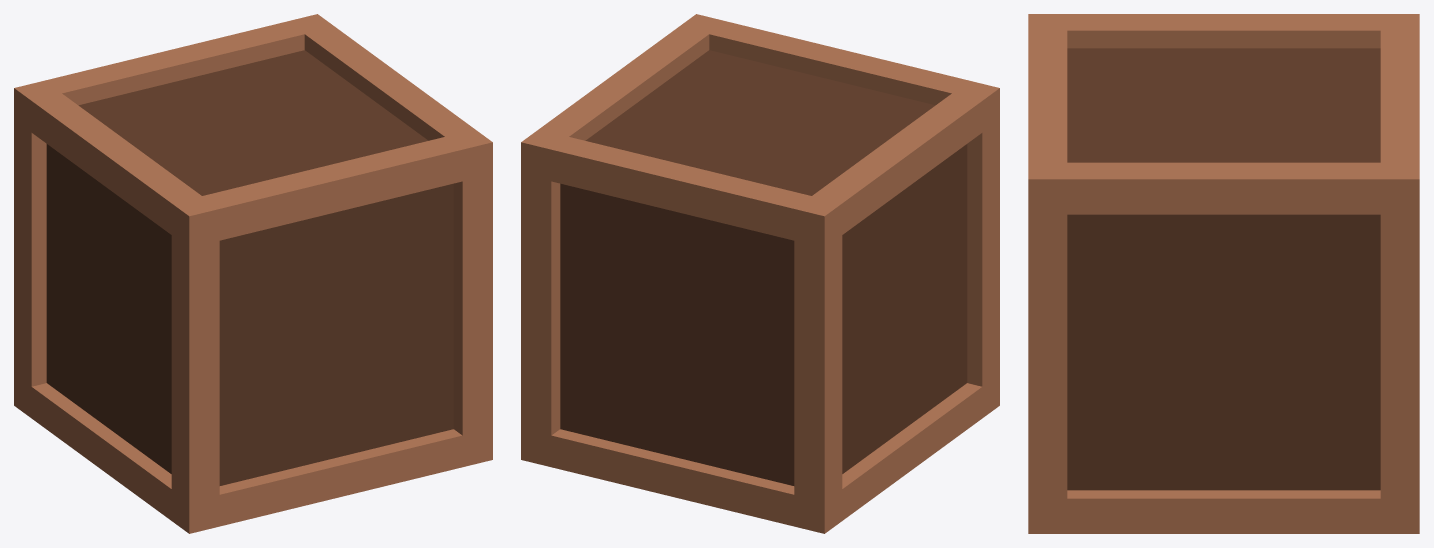
File: Mehcrate.fbx
3 views of the same model, side by side, from view 1: azimuth 30°, elevation 25°; view 2: azimuth 150°, elevation 25°; view 3: azimuth 270°, elevation 25° (orthographic). The views are drawn at different scales.
Parts seen in each view (by area): view 1: Box001; view 2: Box001; view 3: Box001.
Boxes of the visible parts, x1,y1,x2,y2 form: Box001: [14, 14, 492, 533]; Box001: [521, 14, 999, 533]; Box001: [1028, 14, 1419, 533].
Bounding box in the file's own units: 1 × 1 × 1.
